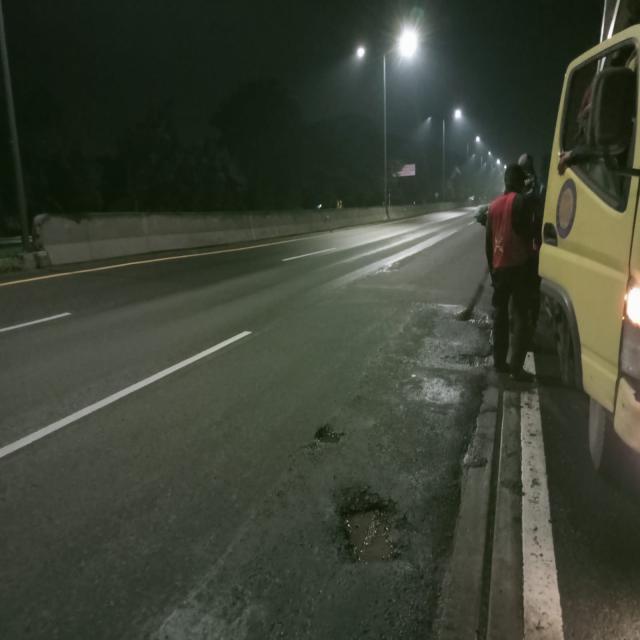Buraco: (331, 488, 404, 567), (450, 305, 496, 348), (438, 350, 496, 370), (312, 422, 348, 446)
